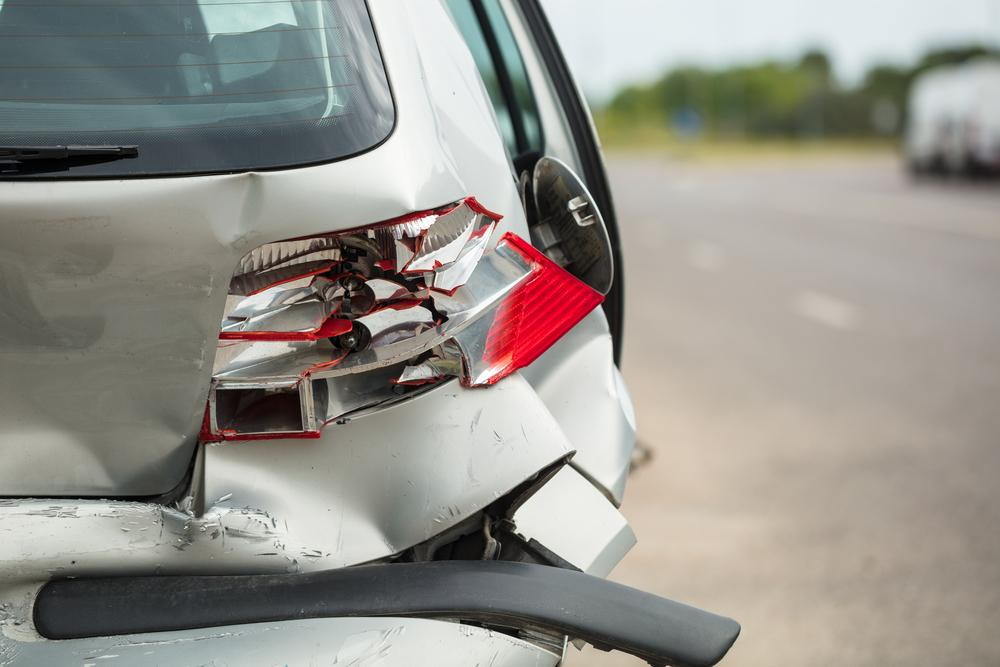dent: (0, 293, 205, 490), (206, 399, 440, 567), (203, 173, 266, 244)
lamp broken: (210, 199, 610, 447)
